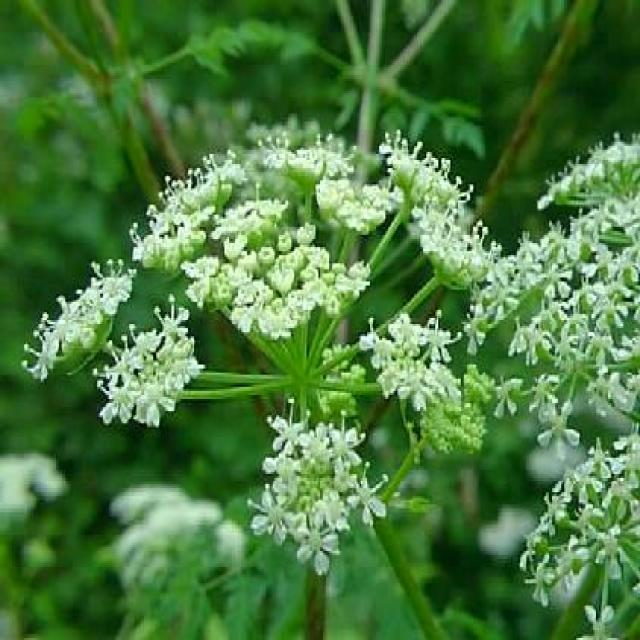Poisonous-Hemlock: (34, 123, 508, 594), (523, 119, 640, 640)
